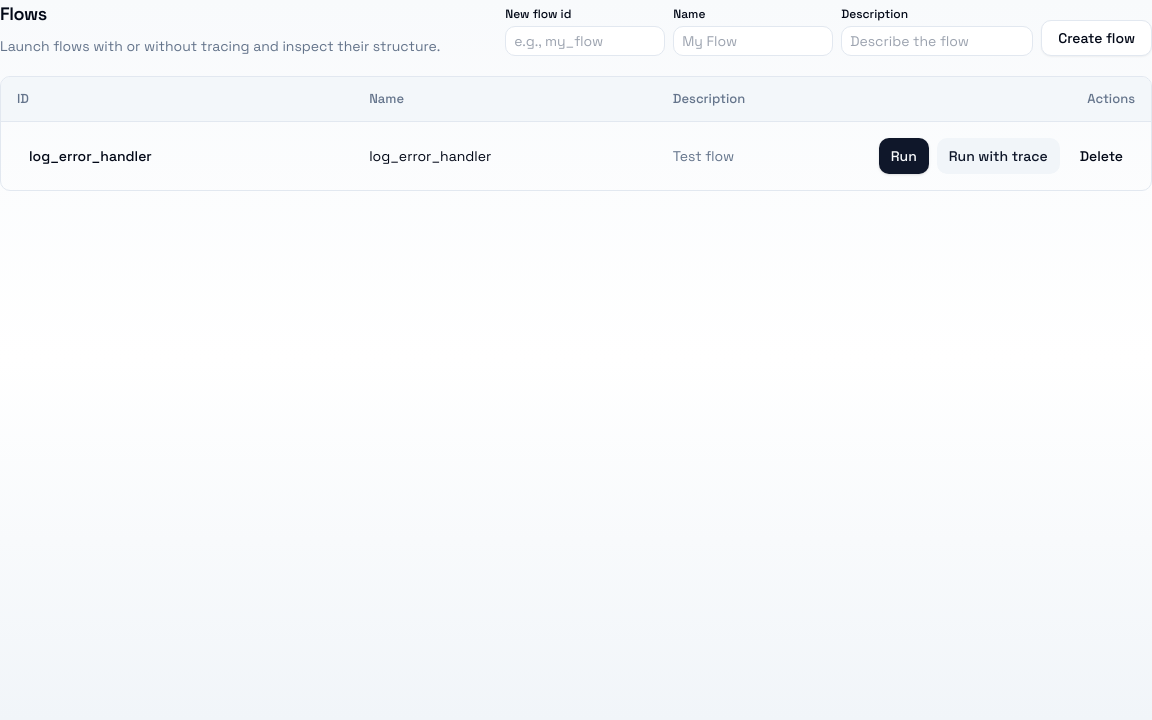
Scenario: FlowsPage layout › stacks the flow editor below the graph/details for more space
Click the button "log_error_handler". click: (90, 156)
box: [17, 138, 164, 174]
(page scrolled)
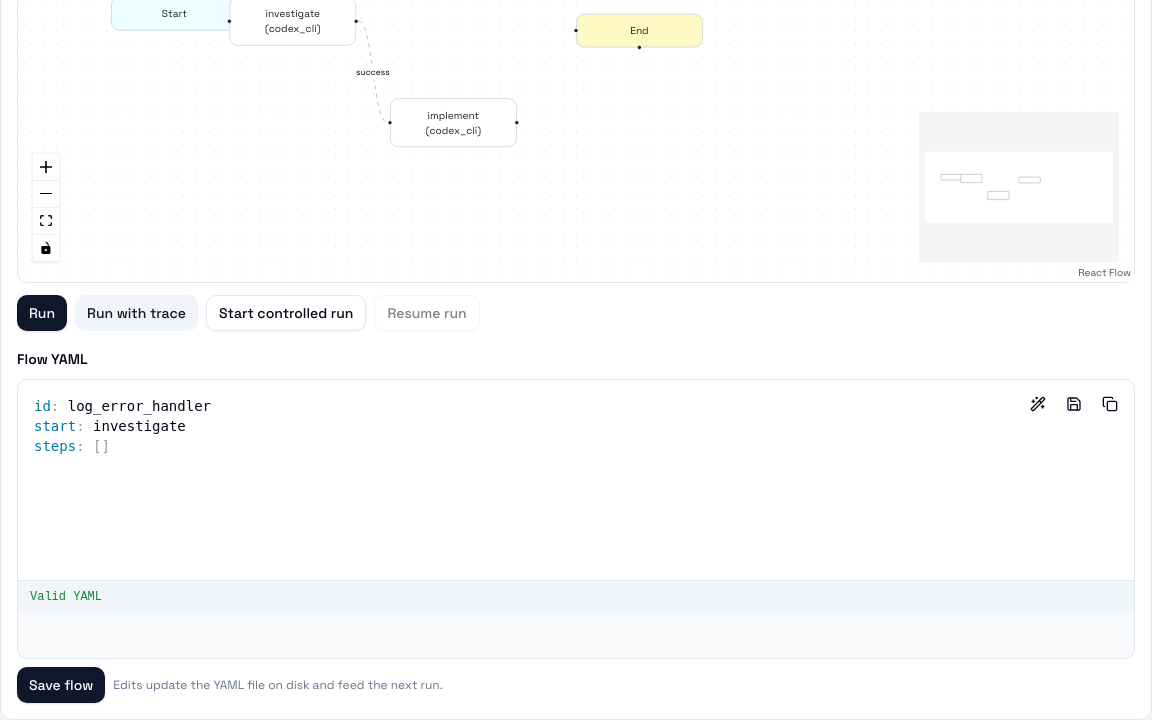
Check: the element with test id "flow-detail-editor" is shown, box [17, 346, 1135, 702]
